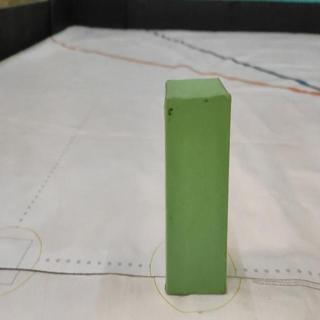greenbox: (161, 76, 234, 297)
